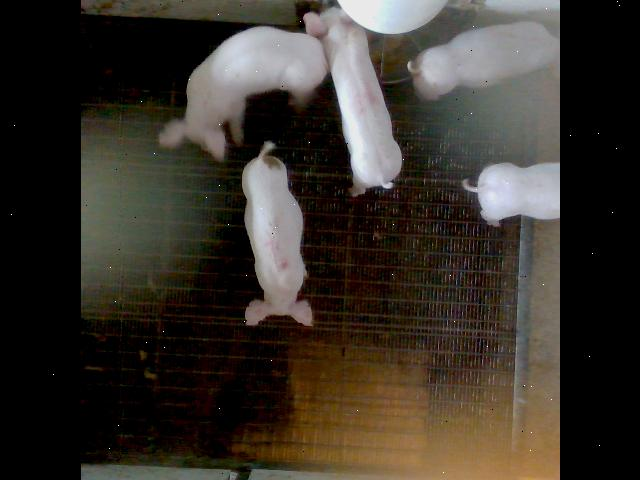pig-4: (302, 8, 401, 194)
pig-5: (241, 141, 311, 325)
